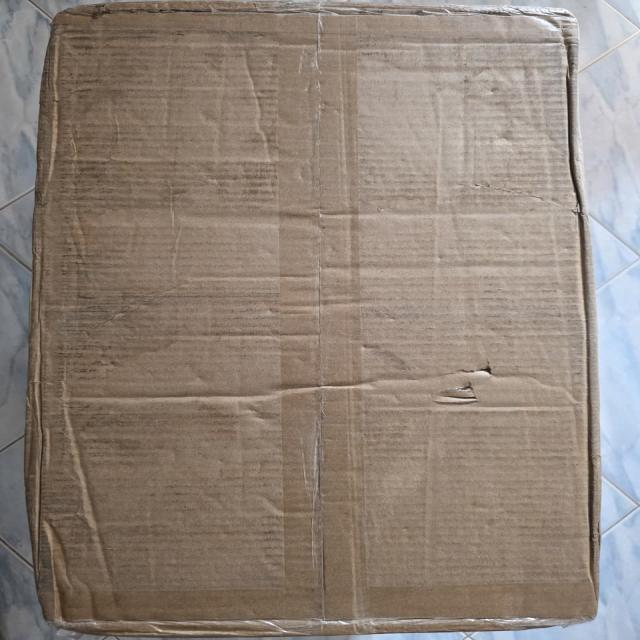carton_box: (22, 0, 614, 640)
package_damage: (467, 345, 521, 402)
